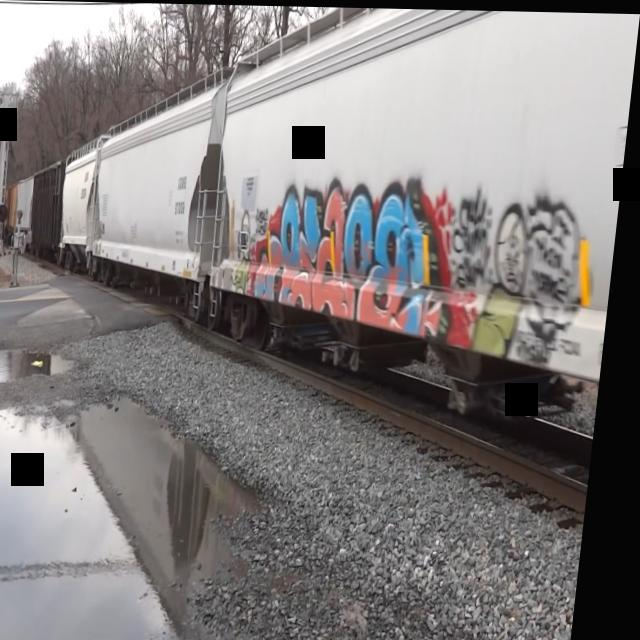hopper: (197, 4, 640, 441), (86, 59, 229, 325), (57, 139, 106, 275)
